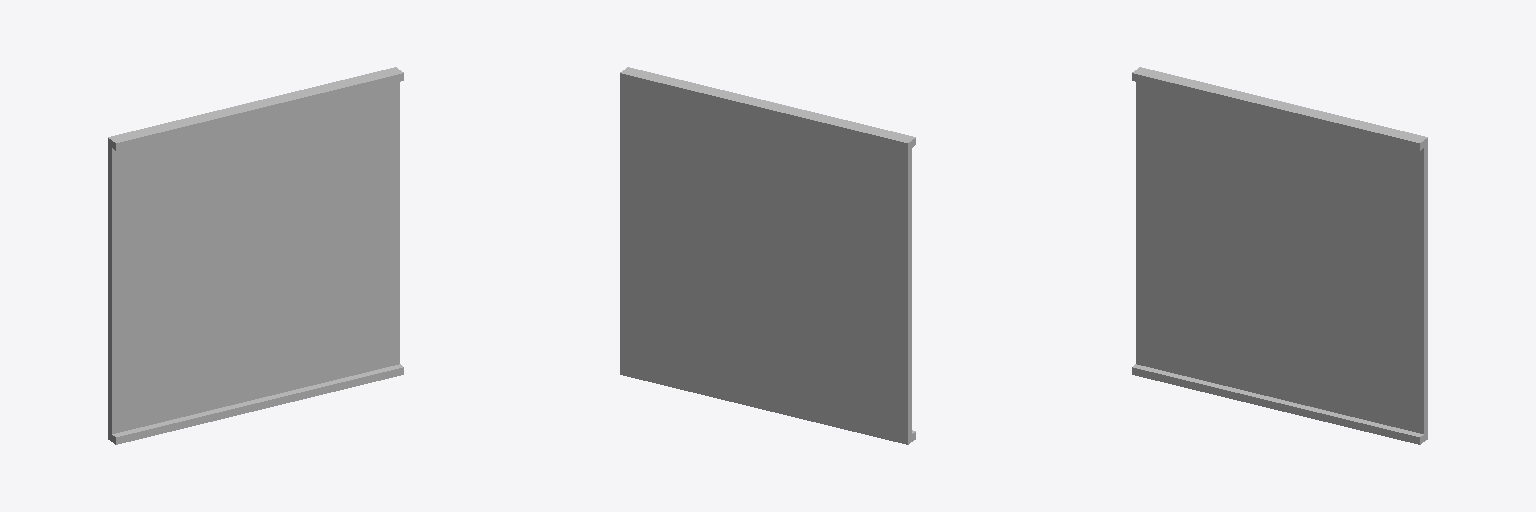
File: wall.obj
The picture shows the model from 3 angles: view 1: azimuth 30°, elevation 25°; view 2: azimuth 150°, elevation 25°; view 3: azimuth 330°, elevation 25°; orthographic projection.
Visible parts, largest first — view 1: object 1; view 2: object 1; view 3: object 1.
Boxes of the visible parts, x1,y1,x2,y2 form: object 1: [108, 67, 403, 444]; object 1: [620, 67, 915, 444]; object 1: [1132, 67, 1427, 444].
Size of the model in its own units: 4 by 4 by 0.2.